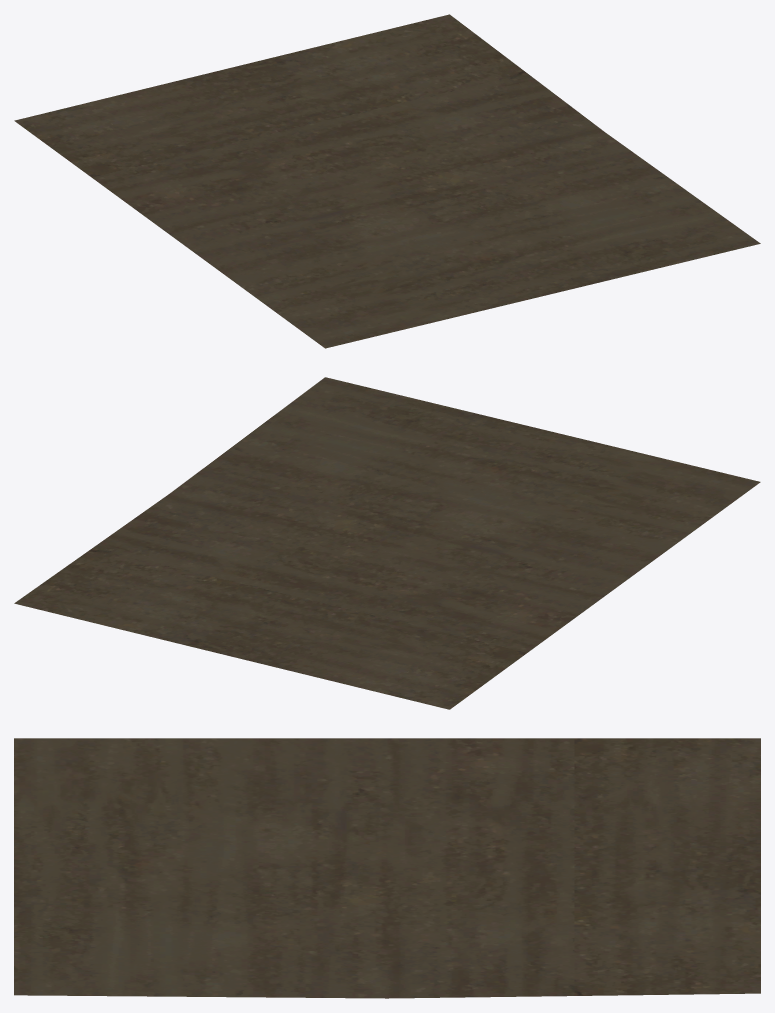
The model's file is blend_path06.fbx.
The picture shows the model from 3 angles, top to bottom: view 1: azimuth 30°, elevation 25°; view 2: azimuth 150°, elevation 25°; view 3: azimuth 270°, elevation 25°; orthographic projection. The views are drawn at different scales.
Visible parts, largest first — view 1: new_stone/dirt_road001_blend_shadow; view 2: new_stone/dirt_road001_blend_shadow; view 3: new_stone/dirt_road001_blend_shadow.
Boxes of the visible parts, bbox=[...] form: new_stone/dirt_road001_blend_shadow: bbox=[14, 14, 760, 348]; new_stone/dirt_road001_blend_shadow: bbox=[14, 377, 760, 709]; new_stone/dirt_road001_blend_shadow: bbox=[14, 738, 760, 998].
Bounding box in the file's own units: 4.33 × 0.0388 × 5.36.
